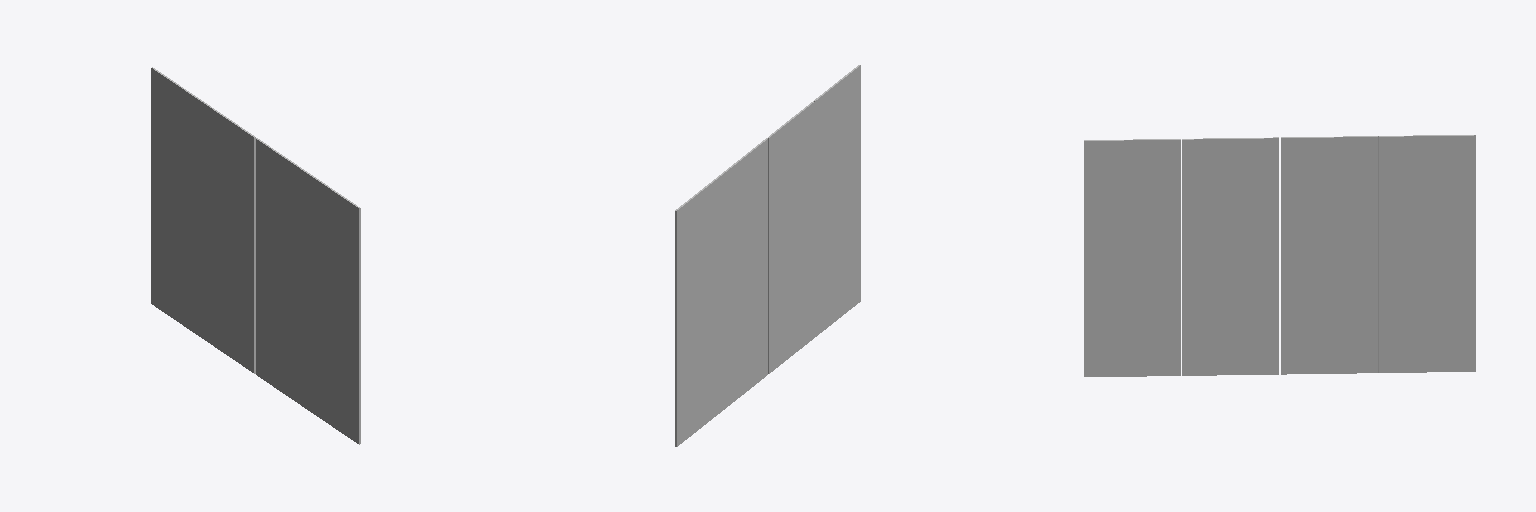
The model's file is puertavidrio3.obj.
3 renders of one model, left to right at view 1: azimuth 30°, elevation 25°; view 2: azimuth 150°, elevation 25°; view 3: azimuth 270°, elevation 25°, orthographic.
Parts seen in each view (by area): view 1: glass_door01_obj3:Object004 pasted__group2 group4; view 2: glass_door01_obj3:Object004 pasted__group2 group4; view 3: glass_door01_obj3:Object004 pasted__group2 group4.
Boxes of the visible parts, box(x1,y1,x2,y2) form: glass_door01_obj3:Object004 pasted__group2 group4: box(151, 67, 360, 444); glass_door01_obj3:Object004 pasted__group2 group4: box(675, 65, 860, 446); glass_door01_obj3:Object004 pasted__group2 group4: box(1084, 135, 1475, 376).
Size of the model in its own units: 0.1942 by 3.31 by 4.98.